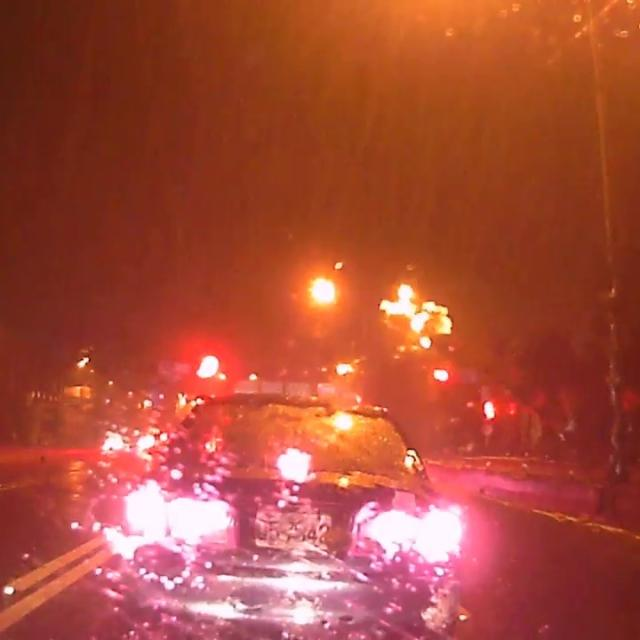Car: (102, 386, 458, 630)
